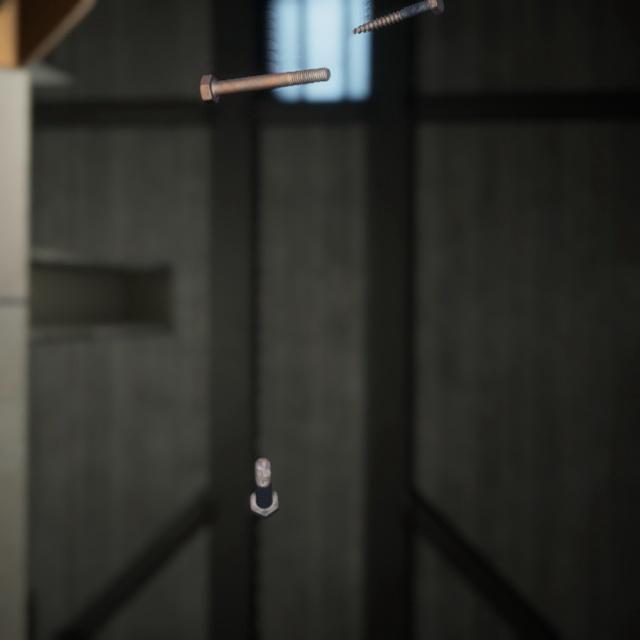bolt: (195, 50, 335, 97), (346, 0, 448, 32), (245, 430, 283, 502)
